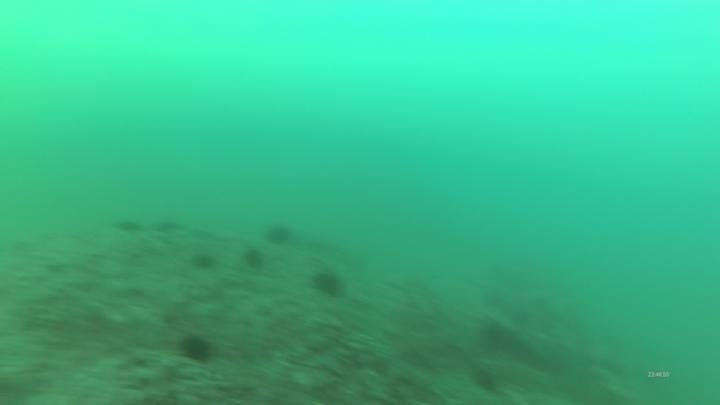echinus: (176, 331, 217, 365), (477, 319, 512, 353), (309, 267, 346, 299), (470, 365, 501, 395), (262, 220, 295, 248), (189, 248, 218, 273), (112, 214, 144, 236), (240, 245, 267, 271), (153, 218, 185, 233)
